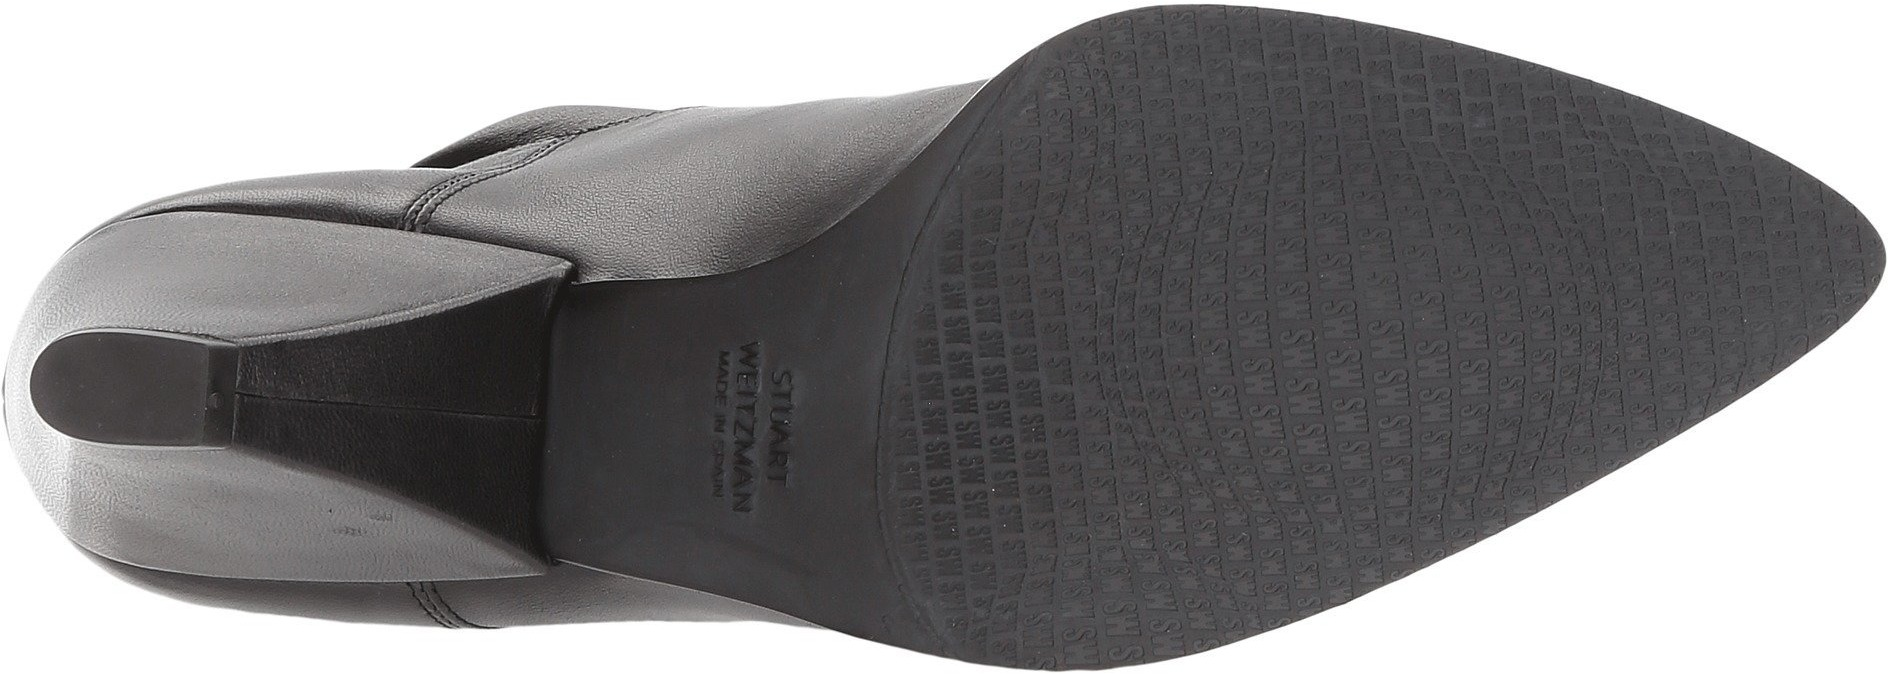exclude: (2, 70, 999, 650)
other: (66, 335, 185, 441)
text: (1362, 97, 1597, 325), (909, 345, 1119, 544), (1312, 327, 1508, 521), (969, 159, 1176, 341), (1605, 187, 1784, 373), (1123, 351, 1306, 519), (1180, 165, 1351, 323), (1078, 22, 1213, 159), (1010, 552, 1129, 666)
